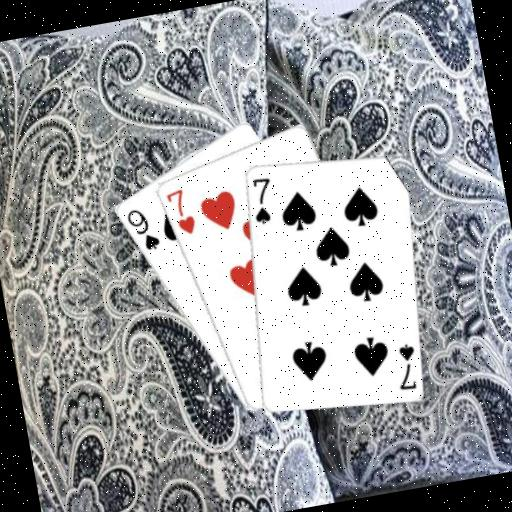7H: (161, 184, 198, 239)
7S: (244, 172, 278, 226), (388, 339, 422, 393)
9S: (122, 202, 163, 256)
